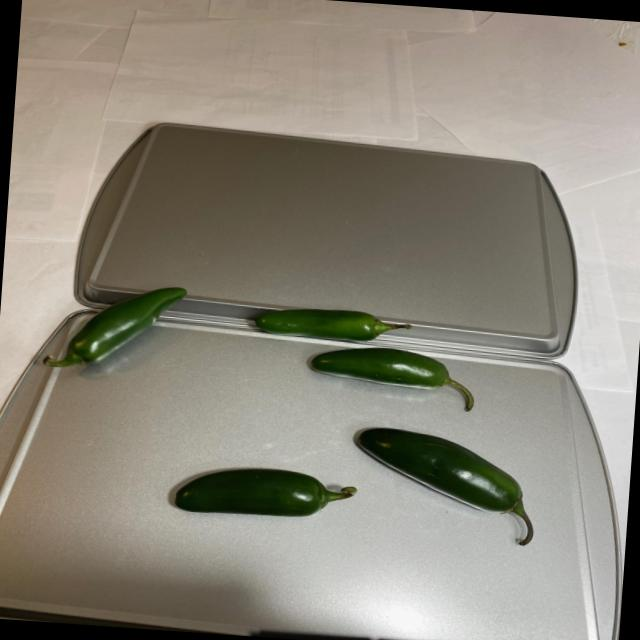chilli: (41, 282, 552, 552)
